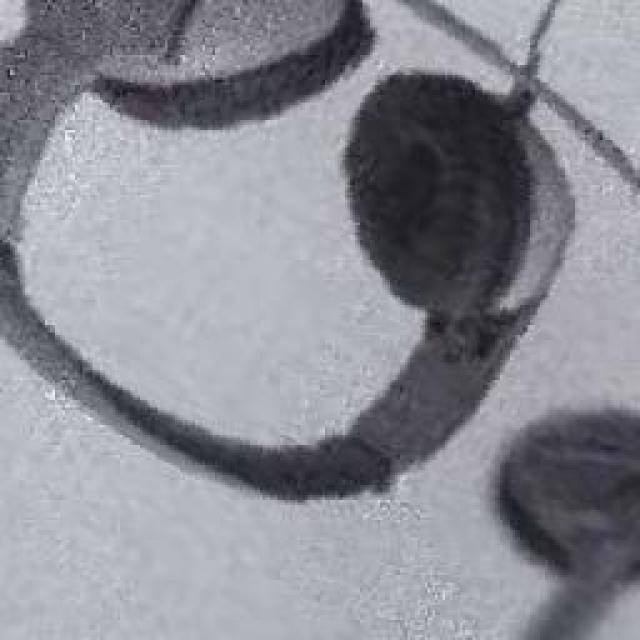kulaklik: (3, 0, 583, 507)
